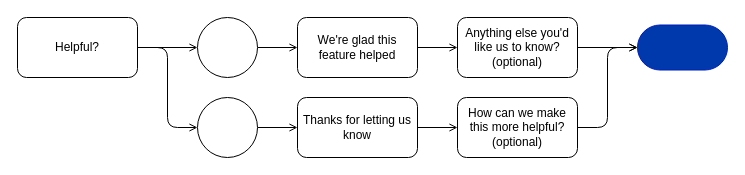
This 745x175 diagram has some shape labels left out. Each missing label, with the centre of its shape:
"No" goes at point (227, 127).
"Submit" goes at point (682, 47).
"Yes" goes at point (227, 47).
